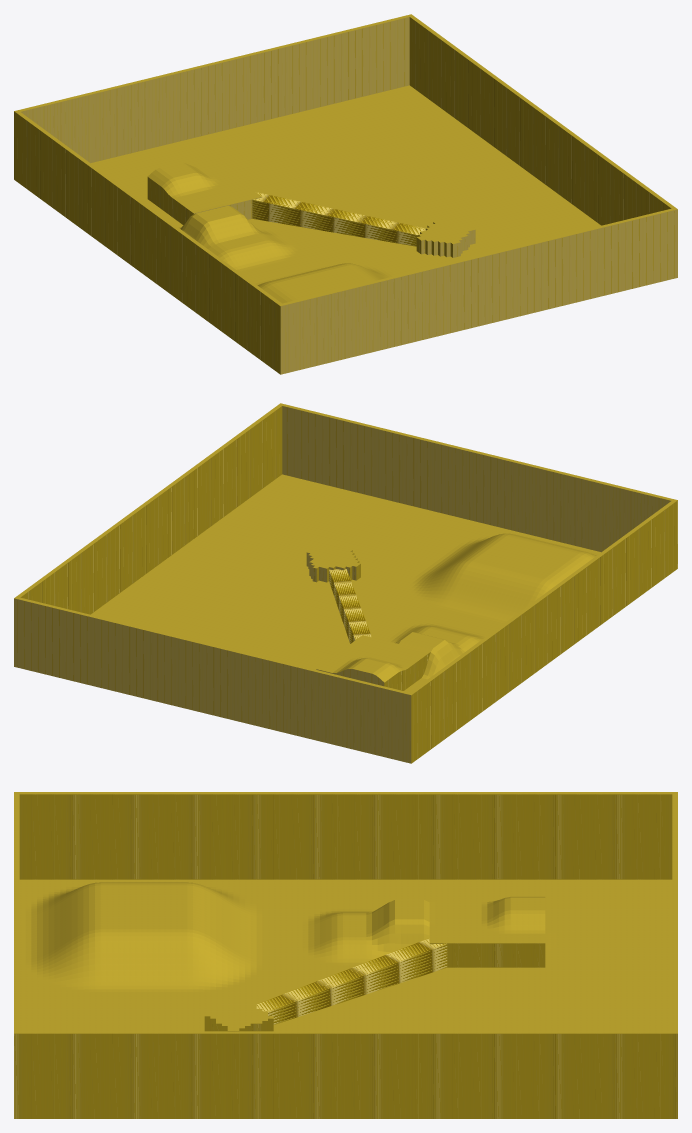
Rendered from aaa.gltf.
The picture shows the model from 3 angles, top to bottom: view 1: azimuth 30°, elevation 25°; view 2: azimuth 150°, elevation 25°; view 3: azimuth 270°, elevation 25°; orthographic projection. The views are drawn at different scales.
Visible parts, largest first — view 1: map, Cube; view 2: map, Cube; view 3: map, Cube.
Part boxes in pixels (<box>): map: <box>14,14,677,374</box>; Cube: <box>252,192,425,246</box>; map: <box>14,403,677,763</box>; Cube: <box>329,569,371,643</box>; map: <box>14,792,677,1118</box>; Cube: <box>256,938,447,1024</box>.
Bounding box in the file's own units: 198 × 37.79 × 230.
Materials: 1 (1 with a texture image).
